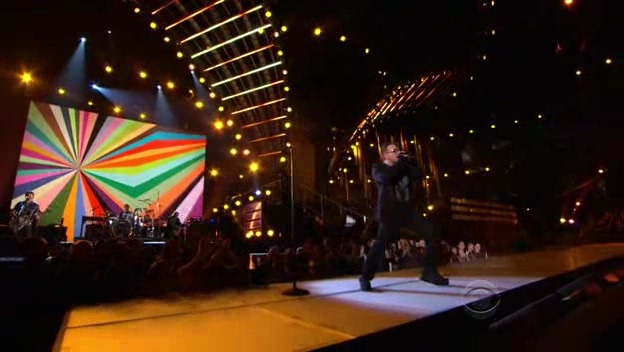person: (369, 140, 429, 245), (366, 140, 426, 245), (372, 140, 432, 245), (369, 137, 429, 242), (369, 143, 429, 248)
target_negative: (172, 145, 622, 321), (353, 160, 460, 352), (383, 110, 421, 323), (452, 279, 546, 307), (380, 290, 459, 318), (612, 338, 623, 348)
